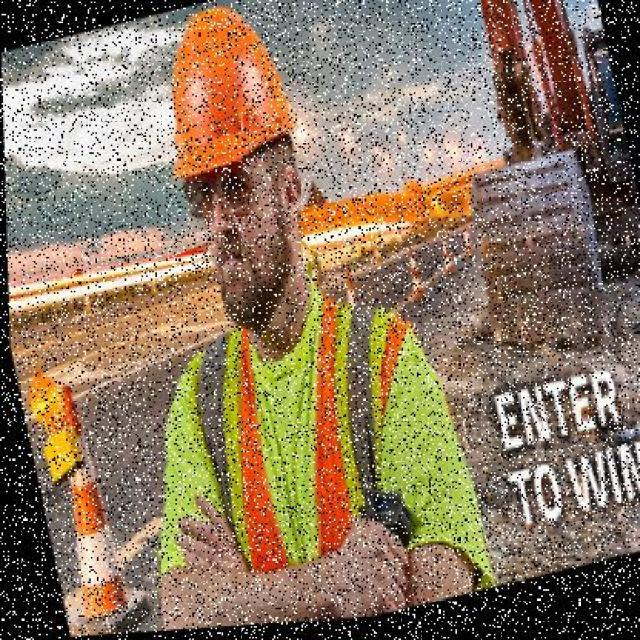helmet: (137, 0, 311, 195)
vest: (146, 278, 478, 630)
